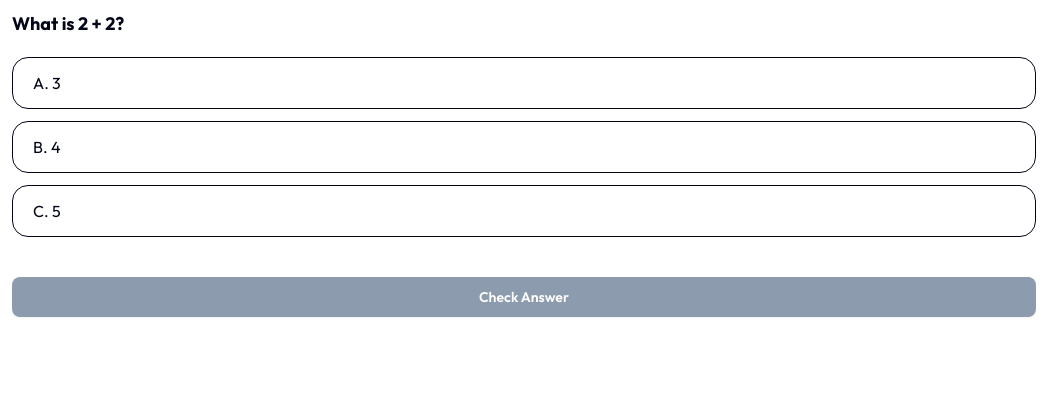
QuizInlineViewer — custom feedback › shows explanation after answering correctly
What coordinates should you click on to do the following:
click the button "B. 4"
I would click on:
 (38, 147)
Its box is [12,121,1036,173].
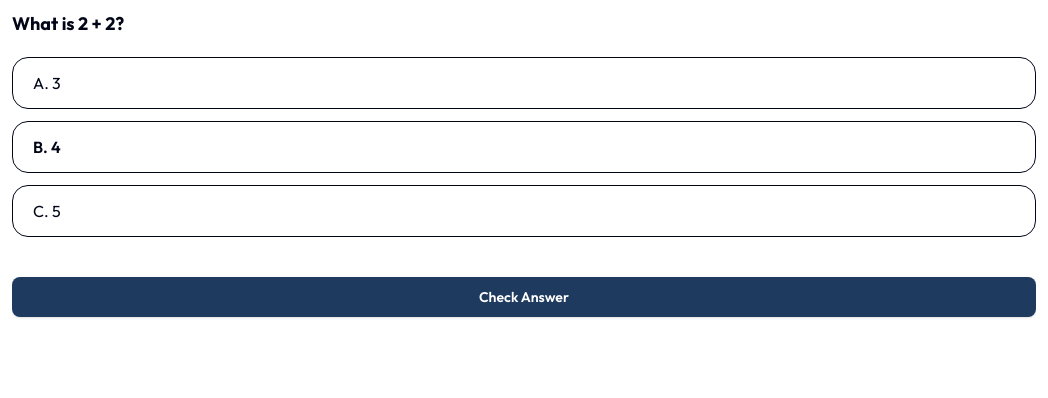
What coordinates should you click on to do the following:
click the button "Check Answer"
I would click on:
 (524, 297)
Its box is [12,277,1036,317].
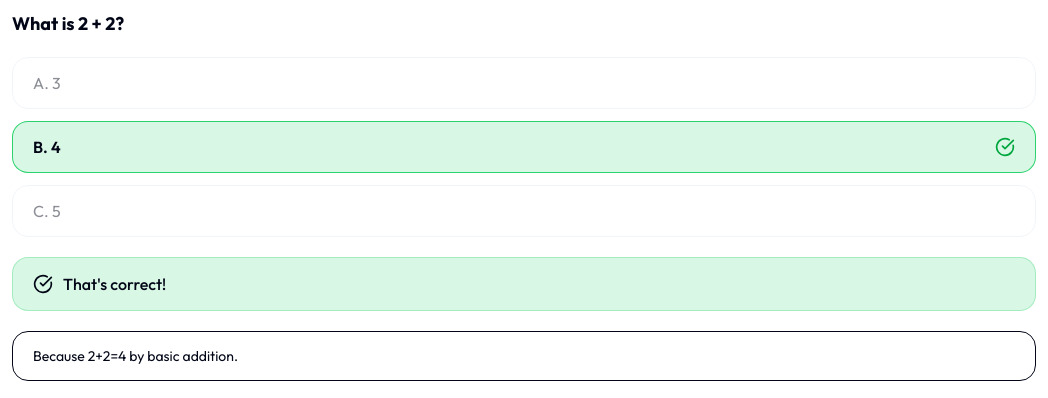
Now the text "Because 2+2=4 by basic addition." is shown, box [12,331,1036,381]
